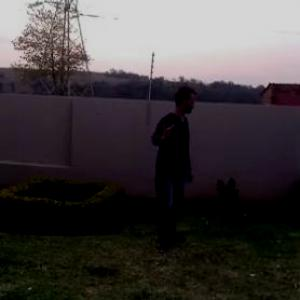takeoff-hand: (155, 116, 178, 144)
